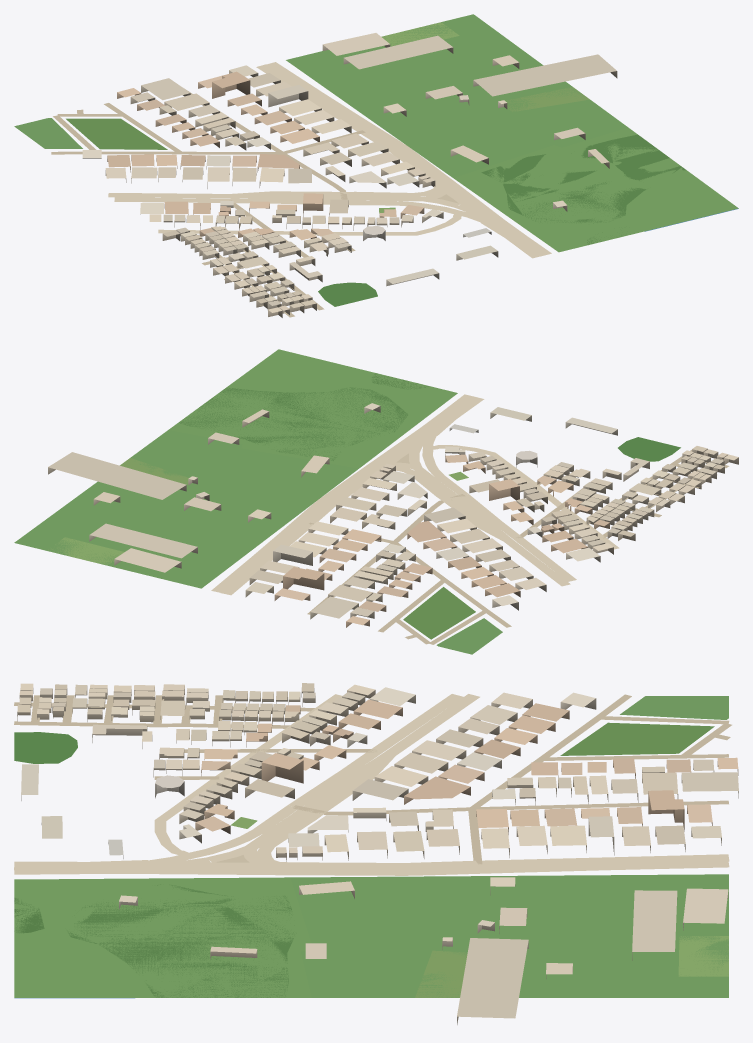
3 views of the same model, one above another, from view 1: azimuth 30°, elevation 25°; view 2: azimuth 150°, elevation 25°; view 3: azimuth 270°, elevation 25° (orthographic). The views are drawn at different scales.
Parts seen in each view (by area): view 1: ground, building; view 2: ground, building; view 3: ground, building.
Boxes of the visible parts, <box> form: ground: <box>14,14,738,317</box>; building: <box>82,33,617,317</box>; ground: <box>14,349,729,654</box>; building: <box>48,403,738,627</box>; ground: <box>14,694,731,997</box>; building: <box>17,683,738,1024</box>.
Size of the model in its own units: 555 by 18 by 507.
